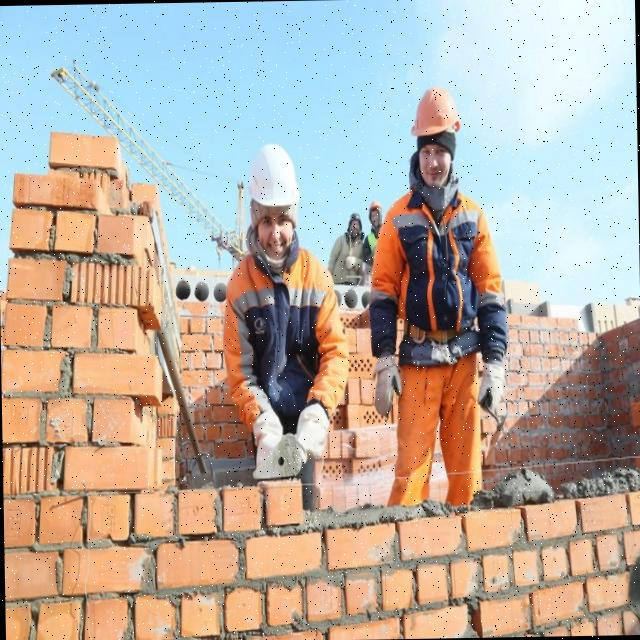Helmet: (248, 145, 302, 213), (410, 84, 462, 152), (347, 210, 362, 228), (367, 201, 383, 217)
Jacket: (233, 237, 336, 426), (396, 172, 482, 362)
NoJacket: (335, 235, 366, 282)
